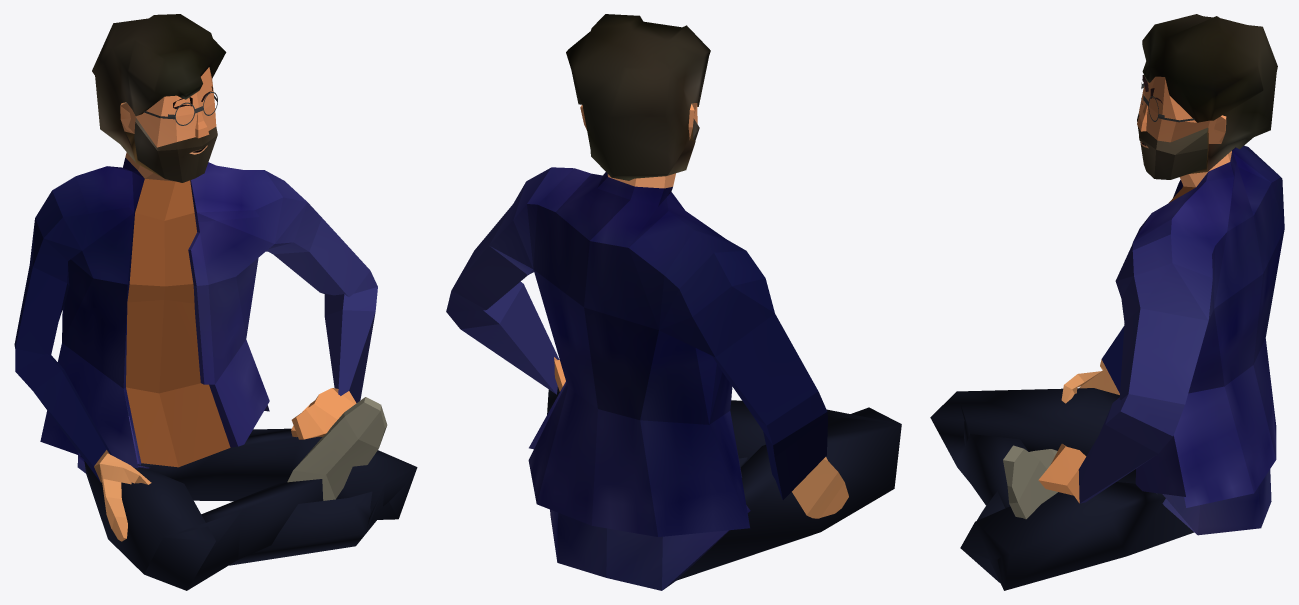
The model's file is mckenna.glb.
3 views of the same model, side by side, from view 1: azimuth 30°, elevation 25°; view 2: azimuth 150°, elevation 25°; view 3: azimuth 270°, elevation 25° (orthographic). The views are drawn at different scales.
Visible parts, largest first — view 1: Circle; view 2: Circle; view 3: Circle.
Boxes of the visible parts, bbox=[...] form: Circle: bbox=[14, 14, 417, 590]; Circle: bbox=[446, 14, 901, 590]; Circle: bbox=[930, 14, 1284, 590].
Size of the model in its own units: 0.8813 by 1.23 by 0.7593.
Materials: 5 (1 with a texture image).
